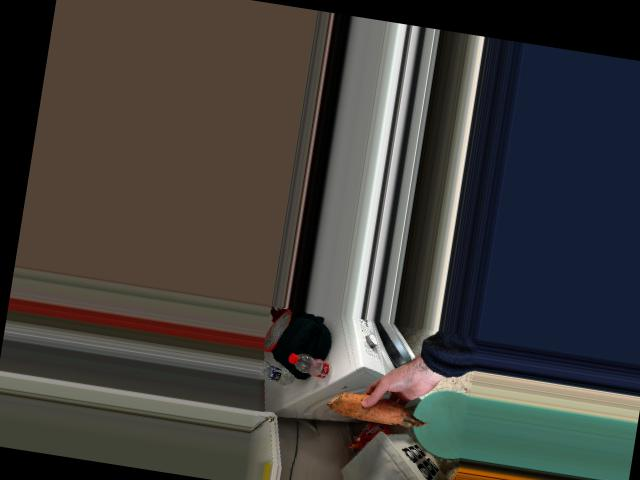sweet_potato: (332, 384, 431, 432)
